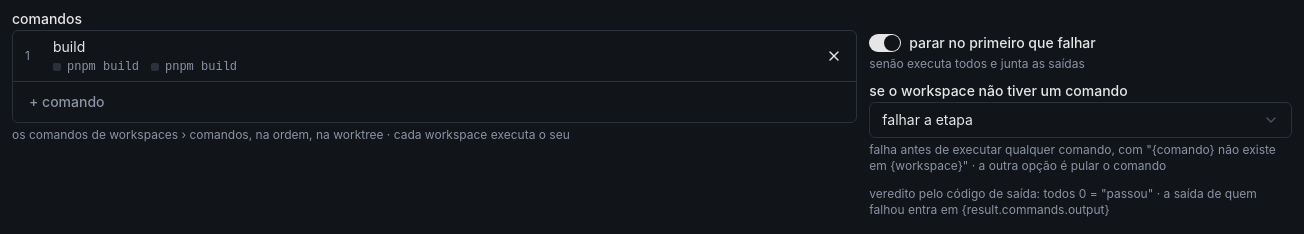
it: se o workspace não tiver um comando is a select under the switch, falhar a etapa for a new stage, with its hint per option (#755)
Expected: the text "falha antes de executar qualquer comando, com \"{comando} não existe em {workspace}\" · a outra opção é pular o comando" is shown, x1=869 y1=142 x2=1276 y2=173
Click the dropdown named "se o workspace não tiver um comando" at (928, 120), box x1=869 y1=102 x2=1292 y2=138
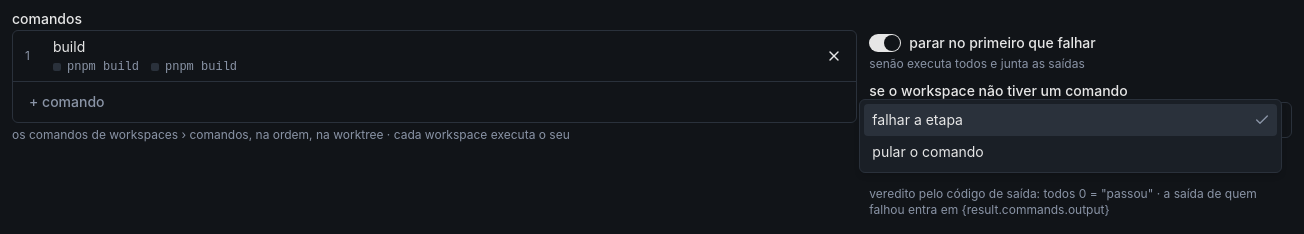
Click the option "pular o comando" at (928, 152), box x1=872 y1=143 x2=984 y2=160
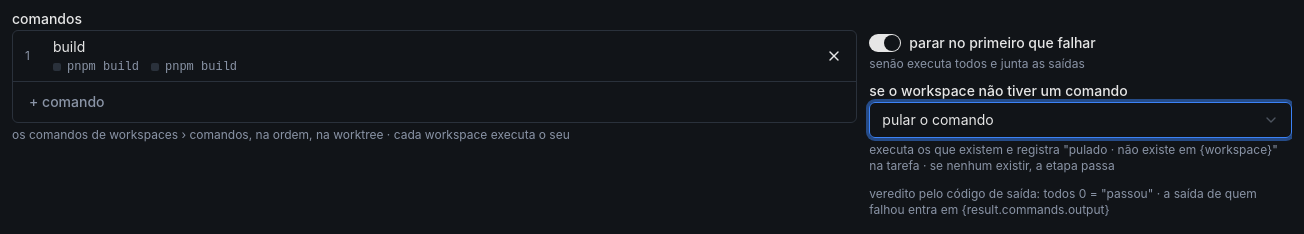
Result: the text "executa os que existem e registra \"pulado · não existe em {workspace}\" na tarefa · se nenhum existir, a etapa passa" is shown at x1=869 y1=142 x2=1278 y2=173
